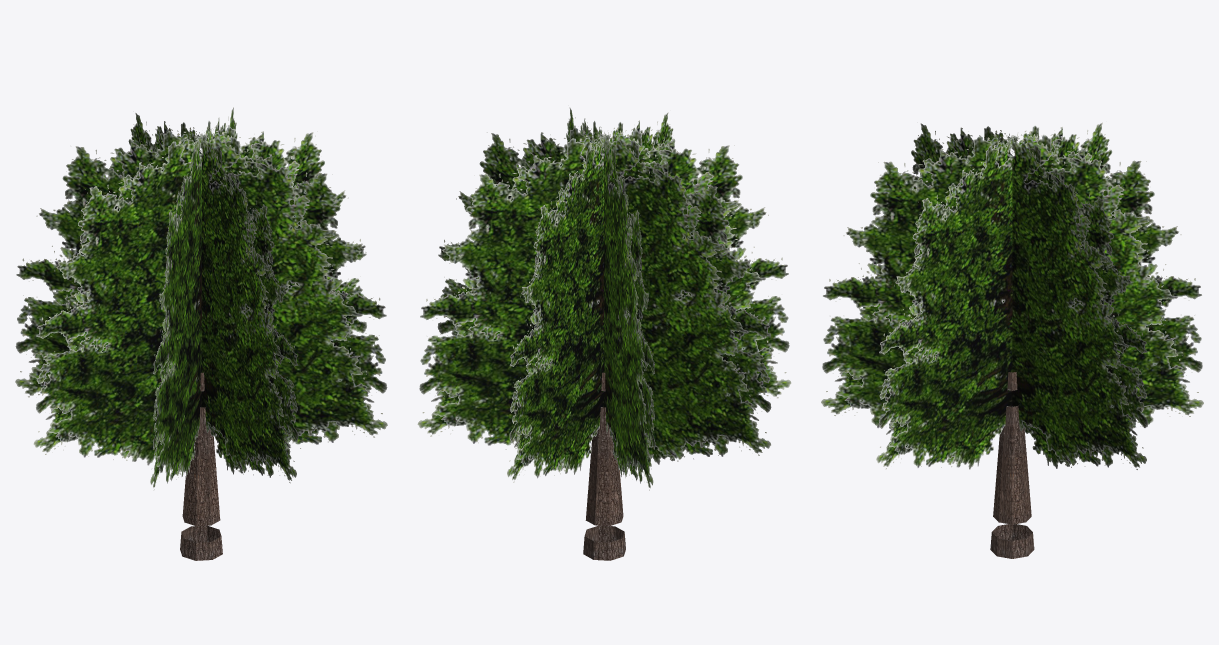
The model's file is tree.fbx.
3 views of the same model, side by side, from view 1: azimuth 30°, elevation 25°; view 2: azimuth 150°, elevation 25°; view 3: azimuth 270°, elevation 25° (orthographic).
Visible parts, largest first — view 1: tree; view 2: tree; view 3: tree.
Part boxes in pixels (x1,y1,x2,y2): tree: (15,107,387,560); tree: (417,107,791,560); tree: (821,122,1203,558).
Bounding box in the file's own units: 4.79 × 6.26 × 4.79.
